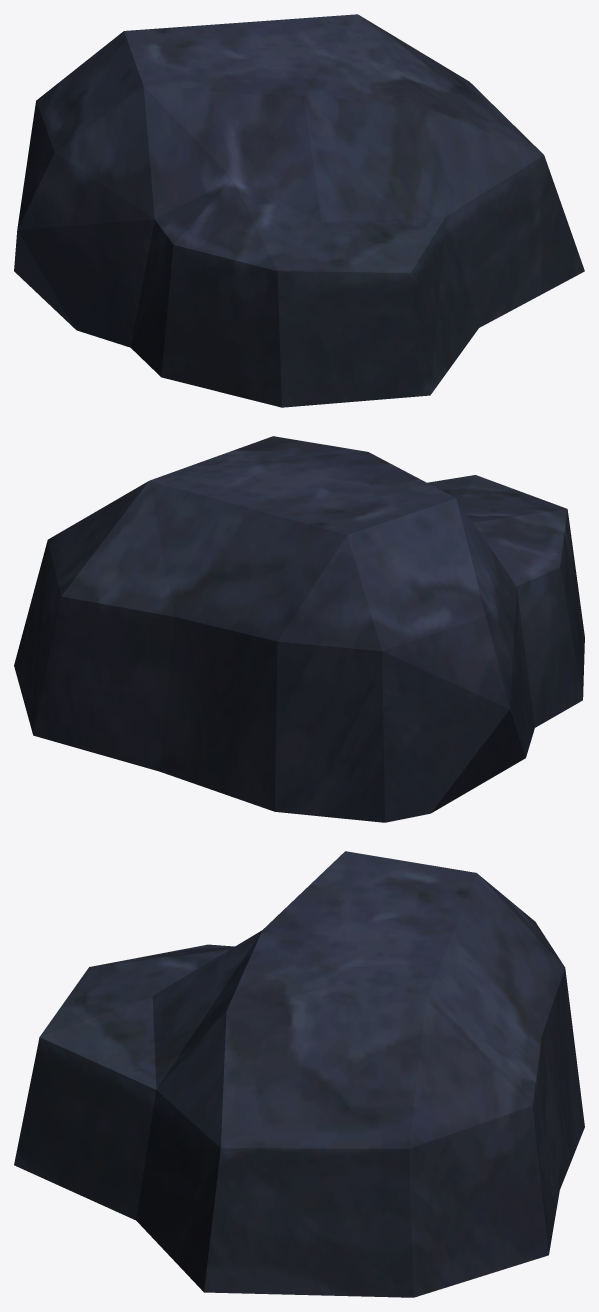
Rendered from mine_rock_03.fbx.
3 views of the same model, one above another, from view 1: azimuth 30°, elevation 25°; view 2: azimuth 150°, elevation 25°; view 3: azimuth 270°, elevation 25° (orthographic). The views are drawn at different scales.
Visible parts, largest first — view 1: mine_tileset/rubble_rocks_01_shadow; view 2: mine_tileset/rubble_rocks_01_shadow; view 3: mine_tileset/rubble_rocks_01_shadow.
Part boxes in pixels (left/top/right/bottom): mine_tileset/rubble_rocks_01_shadow: left=14, top=14, right=584, bottom=407; mine_tileset/rubble_rocks_01_shadow: left=14, top=436, right=584, bottom=822; mine_tileset/rubble_rocks_01_shadow: left=14, top=851, right=584, bottom=1297.
Bounding box in the file's own units: 1.27 × 0.5878 × 1.24.
